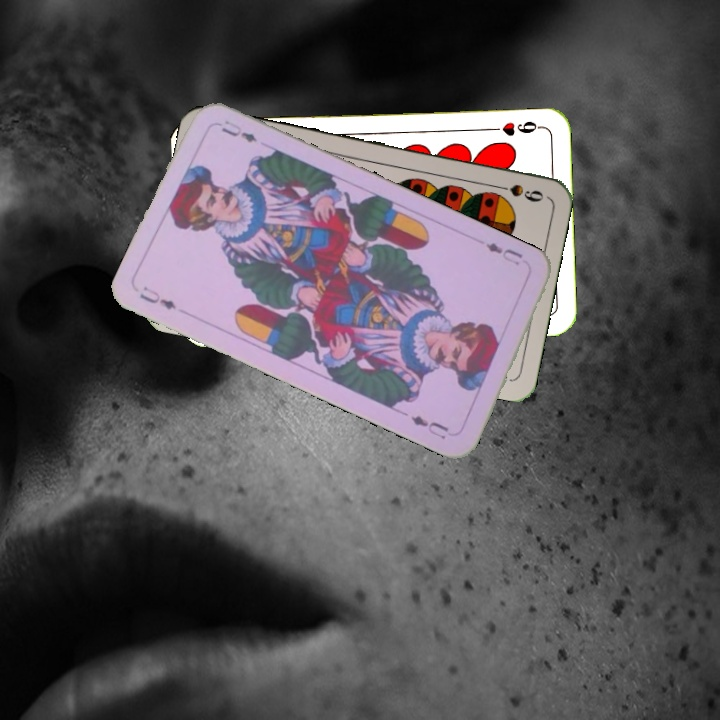EU: (135, 282, 179, 313), (481, 238, 525, 268)
H9: (485, 116, 544, 139)
S9: (488, 180, 547, 205)
